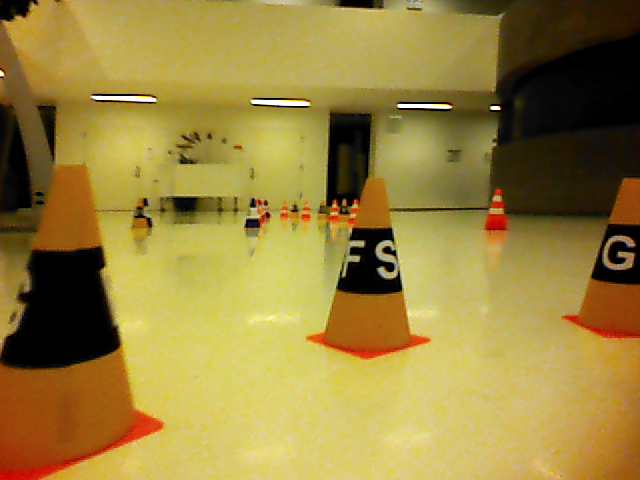yellowcone: (1, 164, 136, 465), (322, 176, 425, 348), (581, 177, 640, 333)
